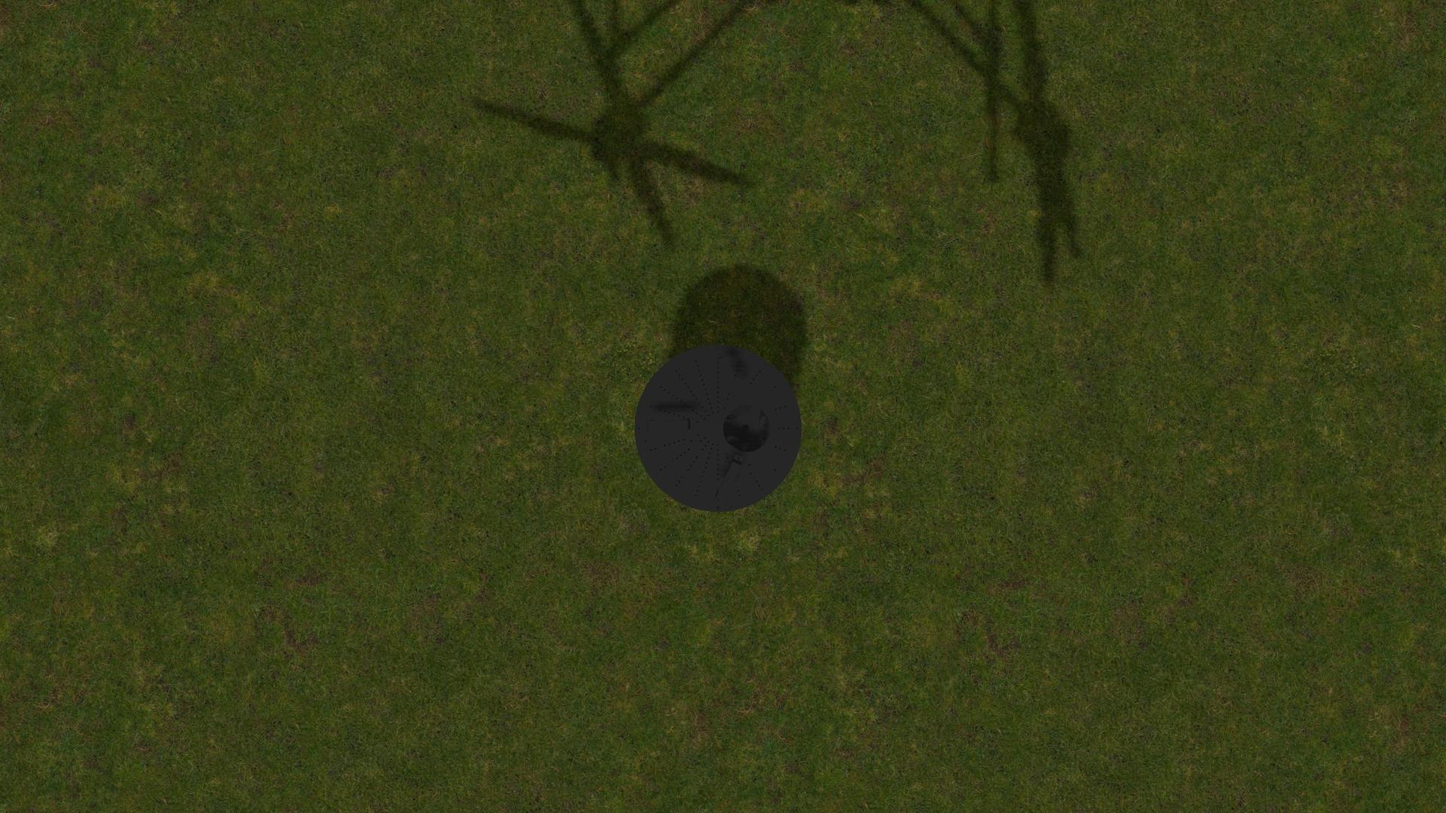alca: (713, 454, 744, 505), (715, 351, 744, 401), (643, 419, 696, 431)
armadilha: (634, 345, 801, 513)
